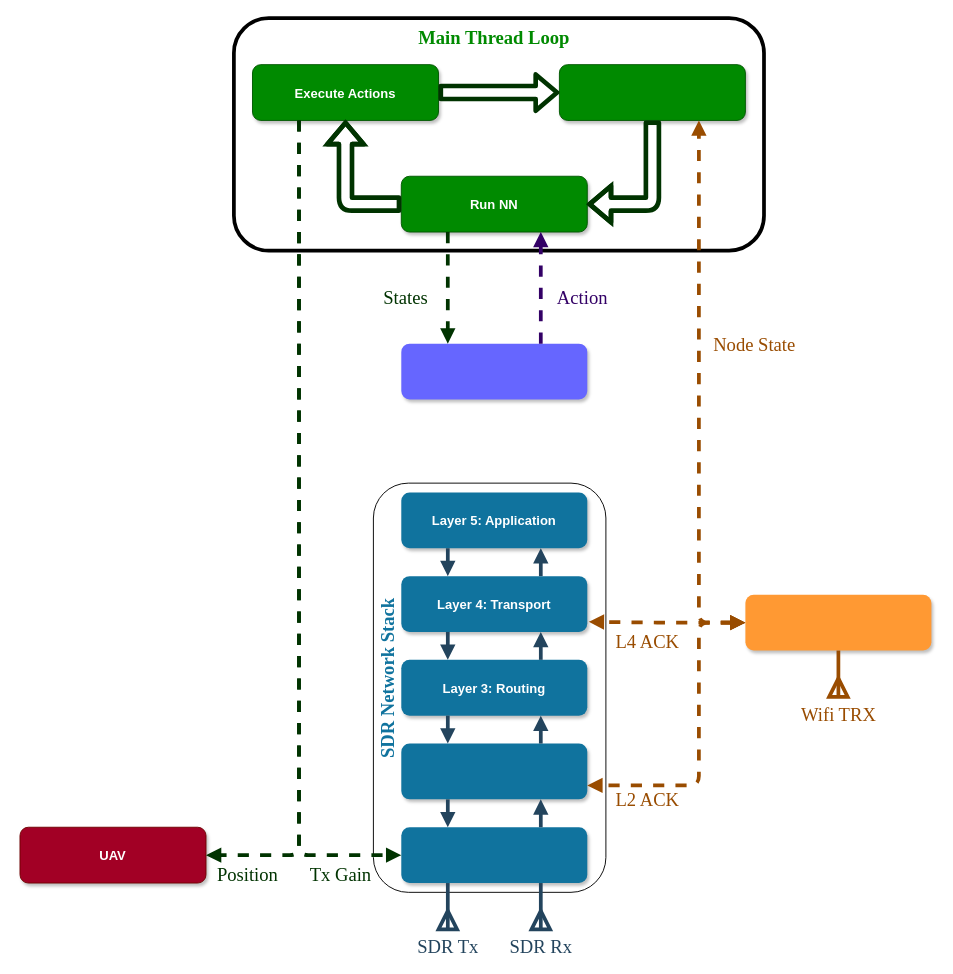
The diagram is 953 pixels wide and 974 high, and some of its shapes have lost their labels. The shapes that lost their labels are listed below. From the top down, each one's centre as x and y in pixels, then its label:
At [653,93]: "Send / Receive States".
At [494,372]: "Neural Network".
At [839,624]: "Control Plane".
At [494,772]: "Layer 2: MAC".
At [494,856]: "Layer 1: USRP".
